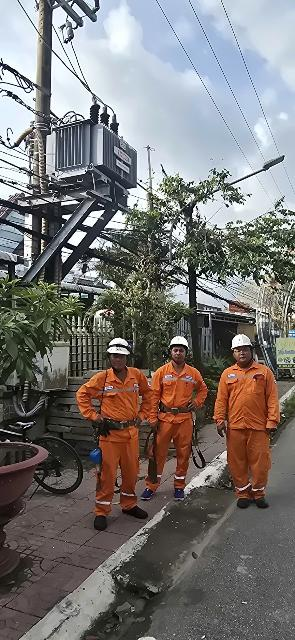gloves: (99, 419, 111, 438)
harness: (160, 404, 189, 414), (114, 421, 133, 429)
helmet: (105, 335, 132, 359), (229, 333, 256, 350), (168, 336, 190, 350)
shoes: (121, 505, 152, 522), (232, 489, 252, 511), (89, 510, 111, 529), (253, 494, 272, 513), (141, 483, 156, 500), (171, 488, 189, 502)
